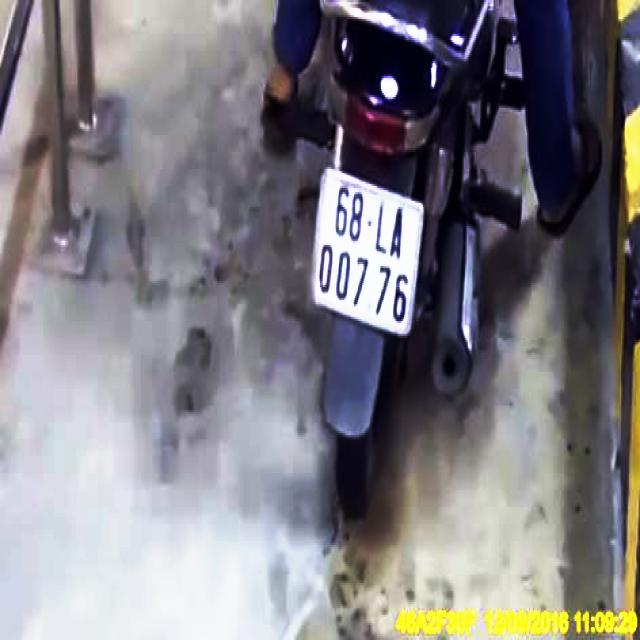license_plate: (312, 170, 428, 340)
